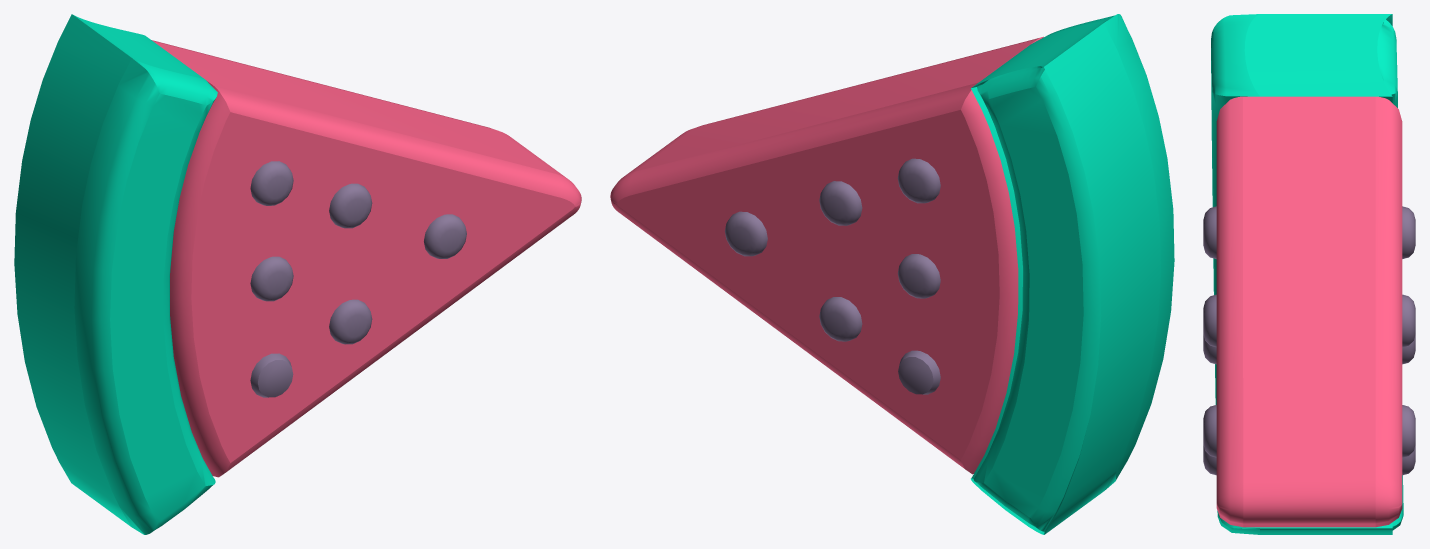
Rendered from watermelon.gltf.
3 views of the same model, side by side, from view 1: azimuth 30°, elevation 25°; view 2: azimuth 150°, elevation 25°; view 3: azimuth 270°, elevation 25° (orthographic). The views are drawn at different scales.
Parts seen in each view (by area): view 1: Inner, Outer, seed5, seed2, seed6, seed4, seed1, seed3; view 2: Inner, Outer, seed5, seed6, seed1, seed4, seed2, seed3; view 3: Inner, Outer, seed1, seed4, seed5, seed6, seed2.
Boxes of the visible parts, bbox=[...] form: Inner: bbox=[151, 40, 581, 477]; Outer: bbox=[14, 14, 217, 534]; seed5: bbox=[329, 183, 372, 228]; seed2: bbox=[250, 256, 293, 301]; seed6: bbox=[329, 299, 372, 344]; seed4: bbox=[250, 161, 293, 205]; seed1: bbox=[424, 214, 466, 258]; seed3: bbox=[250, 353, 293, 397]; Inner: bbox=[610, 36, 1043, 474]; Outer: bbox=[971, 14, 1174, 534]; seed5: bbox=[819, 181, 862, 225]; seed6: bbox=[819, 297, 862, 341]; seed1: bbox=[724, 211, 767, 256]; seed4: bbox=[897, 158, 940, 203]; seed2: bbox=[897, 254, 940, 298]; seed3: bbox=[898, 350, 940, 394]; Inner: bbox=[1216, 96, 1402, 527]; Outer: bbox=[1211, 14, 1403, 534]; seed1: bbox=[1203, 405, 1415, 457]; seed4: bbox=[1203, 206, 1415, 258]; seed5: bbox=[1203, 294, 1415, 347]; seed6: bbox=[1203, 445, 1415, 475]; seed2: bbox=[1203, 334, 1415, 364].
Size of the model in its own units: 47.61 by 43.06 by 16.
